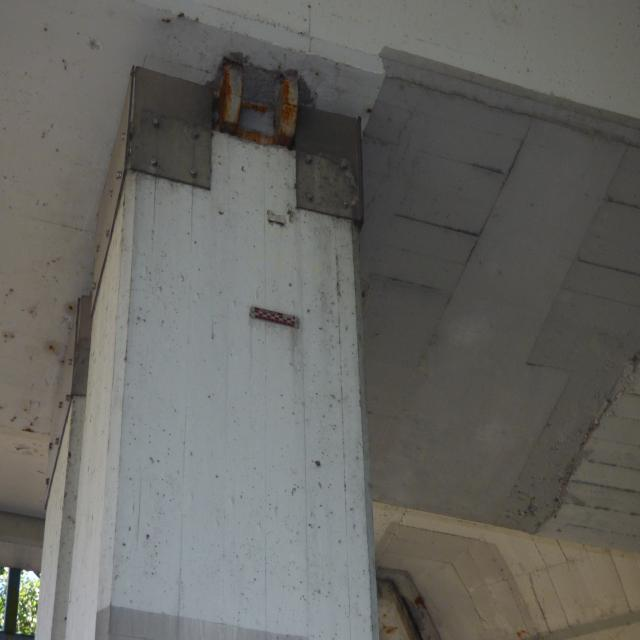corrosion: (0, 273, 82, 432), (216, 59, 300, 158), (378, 591, 427, 640), (512, 625, 536, 640)
